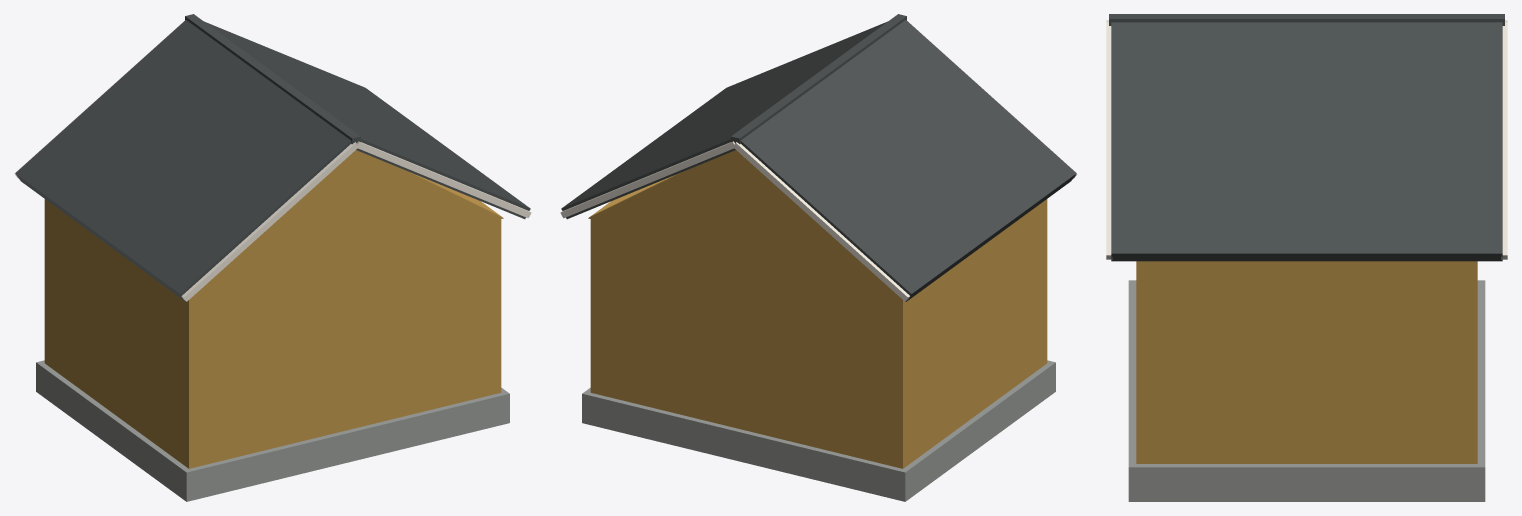
Rendered from norway-house-ochre-white_lod1.glb.
The picture shows the model from 3 angles, left to right: view 1: azimuth 30°, elevation 25°; view 2: azimuth 150°, elevation 25°; view 3: azimuth 270°, elevation 25°; orthographic projection. The views are drawn at different scales.
Visible parts, largest first — view 1: RF_House_Walls, RF_House_RoofA, RF_House_Gables, RF_House_Foundation, RF_House_RoofB, RF_House_RidgeCap, RF_House_VergeLeftFront, RF_House_VergeRightFront; view 2: RF_House_Walls, RF_House_RoofA, RF_House_Gables, RF_House_Foundation, RF_House_RoofB, RF_House_RidgeCap, RF_House_VergeLeftRear, RF_House_VergeRightRear; view 3: RF_House_RoofB, RF_House_Walls, RF_House_Foundation, RF_House_RidgeCap, RF_House_VergeRightRear, RF_House_VergeRightFront.
Part boxes in pixels (x1,y1,x2,y2): RF_House_Walls: [44, 175, 501, 468]; RF_House_RoofA: [15, 20, 351, 301]; RF_House_Gables: [197, 150, 503, 293]; RF_House_Foundation: [36, 360, 509, 501]; RF_House_RoofB: [204, 21, 530, 219]; RF_House_RidgeCap: [185, 14, 360, 144]; RF_House_VergeLeftFront: [181, 142, 358, 301]; RF_House_VergeRightFront: [356, 141, 531, 218]; RF_House_Walls: [590, 175, 1047, 468]; RF_House_RoofA: [740, 20, 1076, 301]; RF_House_Gables: [588, 150, 894, 293]; RF_House_Foundation: [582, 360, 1055, 501]; RF_House_RoofB: [561, 21, 887, 219]; RF_House_RidgeCap: [731, 14, 906, 144]; RF_House_VergeLeftRear: [733, 142, 910, 301]; RF_House_VergeRightRear: [560, 141, 734, 218]; RF_House_RoofB: [1111, 22, 1502, 261]; RF_House_Walls: [1136, 261, 1477, 463]; RF_House_Foundation: [1128, 280, 1485, 501]; RF_House_RidgeCap: [1109, 14, 1504, 25]; RF_House_VergeRightRear: [1501, 22, 1507, 259]; RF_House_VergeRightFront: [1106, 22, 1112, 259].
Bounding box in the file's own units: 11.22 × 10.13 × 9.4.
